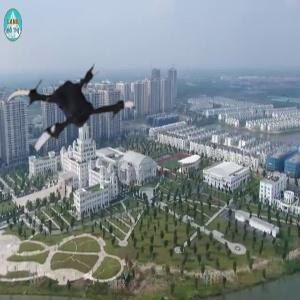drone: (2, 49, 137, 184)
